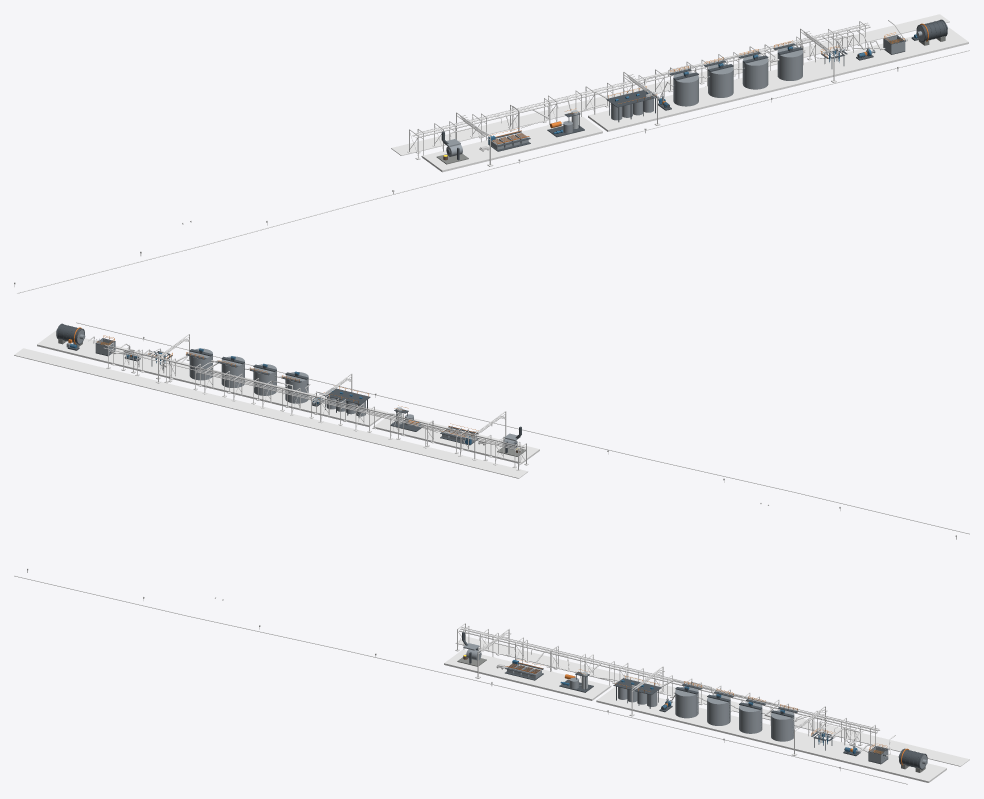
File: PULPA_LAB_V49_PROCESS.glb
3 renders of one model, top to bottom at view 1: azimuth 30°, elevation 25°; view 2: azimuth 150°, elevation 25°; view 3: azimuth 330°, elevation 25°, orthographic. The views are drawn at different scales.
Visible parts, largest first — view 1: V49_PROCESS_ACCESS_ROAD, V49_PAD_LEACH_CIP, V49_PAD_GRIND_CLASS, V49_PAD_RECOVERY, V21_FIREWATER_RING, R-02_SHELL, R-04_SHELL, R-03_SHELL, R-01_SHELL, V19_HEADER_PROCESS, V19_HEADER_WATER; view 2: V49_PROCESS_ACCESS_ROAD, V49_PAD_LEACH_CIP, V49_PAD_GRIND_CLASS, V49_PAD_RECOVERY, V21_FIREWATER_RING, R-01_SHELL, V19_HEADER_CHEM, R-02_SHELL, R-03_SHELL, R-04_SHELL, V19_HEADER_AIR, V16_UTILITY_WATER_HEADER; view 3: V49_PROCESS_ACCESS_ROAD, V49_PAD_LEACH_CIP, V49_PAD_GRIND_CLASS, V49_PAD_RECOVERY, V21_FIREWATER_RING, R-04_SHELL, R-02_SHELL, R-03_SHELL, R-01_SHELL, V19_HEADER_PROCESS, V19_HEADER_WATER, V19_HEADER_AIR.
Part boxes in pixels (<box>): V49_PROCESS_ACCESS_ROAD: <box>391,14,949,155</box>; V49_PAD_LEACH_CIP: <box>588,62,826,131</box>; V49_PAD_GRIND_CLASS: <box>803,27,968,79</box>; V49_PAD_RECOVERY: <box>422,117,602,172</box>; V21_FIREWATER_RING: <box>17,50,969,293</box>; R-02_SHELL: <box>742,55,768,89</box>; R-04_SHELL: <box>673,72,698,106</box>; R-03_SHELL: <box>708,63,733,97</box>; R-01_SHELL: <box>777,46,802,80</box>; V19_HEADER_PROCESS: <box>416,26,870,138</box>; V19_HEADER_WATER: <box>415,24,869,135</box>; V49_PROCESS_ACCESS_ROAD: <box>14,348,528,478</box>; V49_PAD_LEACH_CIP: <box>166,363,387,426</box>; V49_PAD_GRIND_CLASS: <box>37,331,189,378</box>; V49_PAD_RECOVERY: <box>373,414,539,463</box>; V21_FIREWATER_RING: <box>76,322,969,534</box>; R-01_SHELL: <box>189,348,212,380</box>; V19_HEADER_CHEM: <box>104,347,521,450</box>; R-02_SHELL: <box>221,356,244,387</box>; R-03_SHELL: <box>253,364,276,395</box>; R-04_SHELL: <box>285,372,308,403</box>; V19_HEADER_AIR: <box>105,344,522,447</box>; V16_UTILITY_WATER_HEADER: <box>196,371,521,451</box>; V49_PROCESS_ACCESS_ROAD: <box>455,636,969,766</box>; V49_PAD_LEACH_CIP: <box>596,687,812,751</box>; V49_PAD_GRIND_CLASS: <box>792,735,946,782</box>; V49_PAD_RECOVERY: <box>444,649,610,700</box>; V21_FIREWATER_RING: <box>14,575,907,784</box>; R-04_SHELL: <box>675,686,698,718</box>; R-02_SHELL: <box>739,702,762,733</box>; R-03_SHELL: <box>707,694,730,725</box>; R-01_SHELL: <box>771,710,794,741</box>; V19_HEADER_PROCESS: <box>459,630,877,733</box>; V19_HEADER_WATER: <box>460,628,877,731</box>; V19_HEADER_AIR: <box>461,627,879,729</box>.
Size of the model in its own units: 311 by 9.43 by 31.9.
